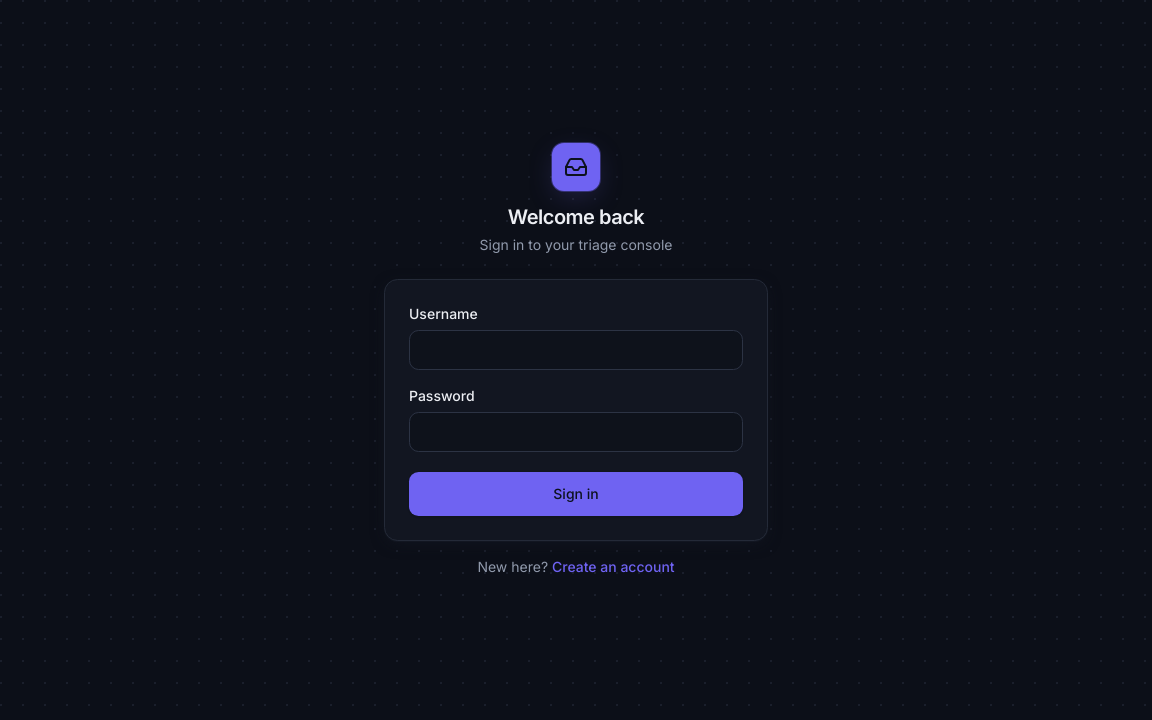
Test: Login › shows an error message on 401
Type "me" into the field labelled "Username" at (576, 350), box [409, 330, 743, 370]
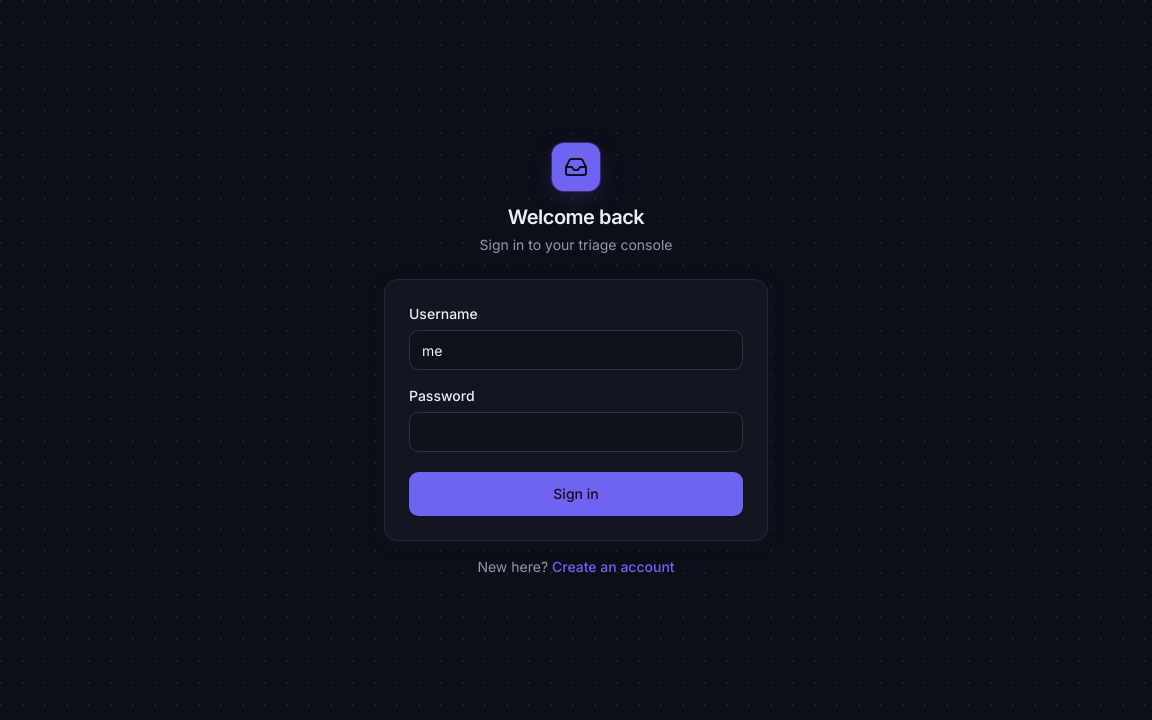
Type "bad" into the password field labelled "Password" at (576, 432), box [409, 412, 743, 452]
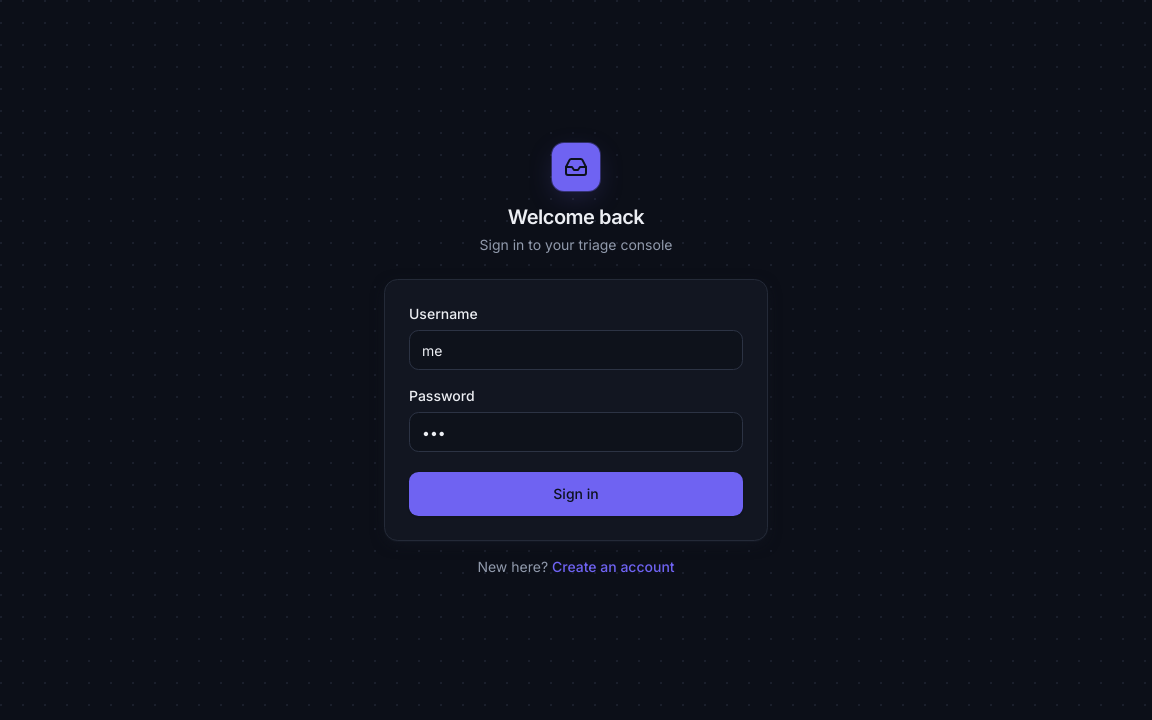
Click the button "Sign in" at (576, 494), box [409, 472, 743, 516]
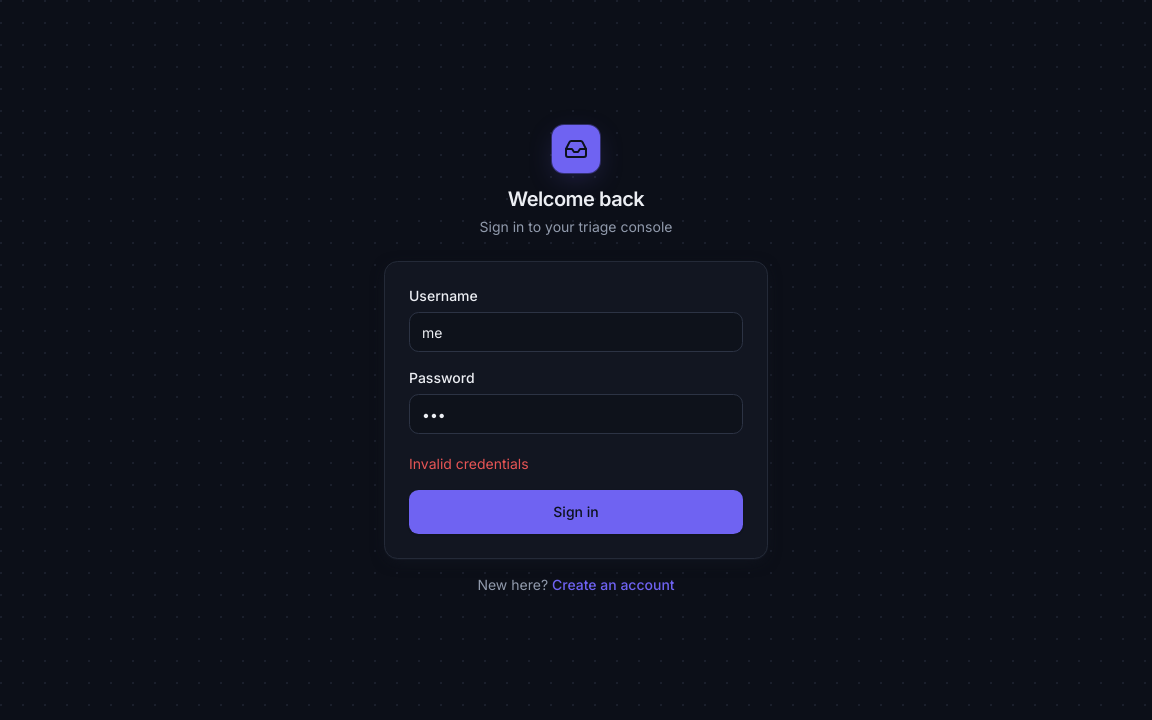
Expected: the text "Invalid credentials" is shown, [409, 455, 529, 472]
